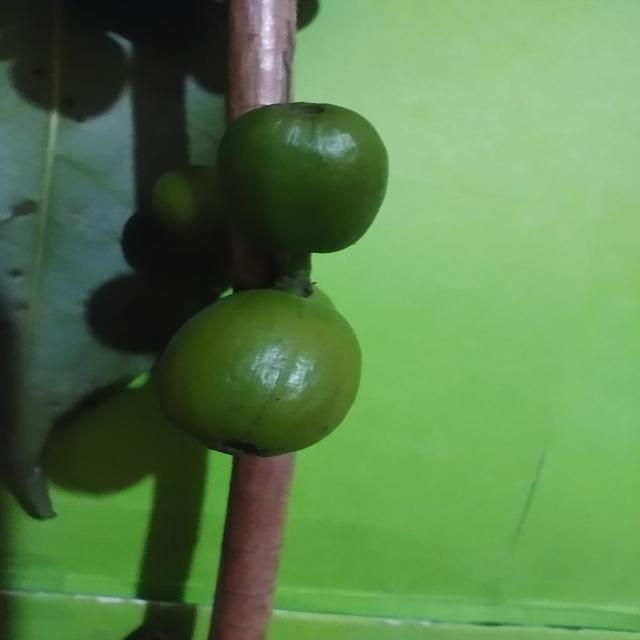Sano: (151, 290, 362, 459), (217, 102, 389, 255)
